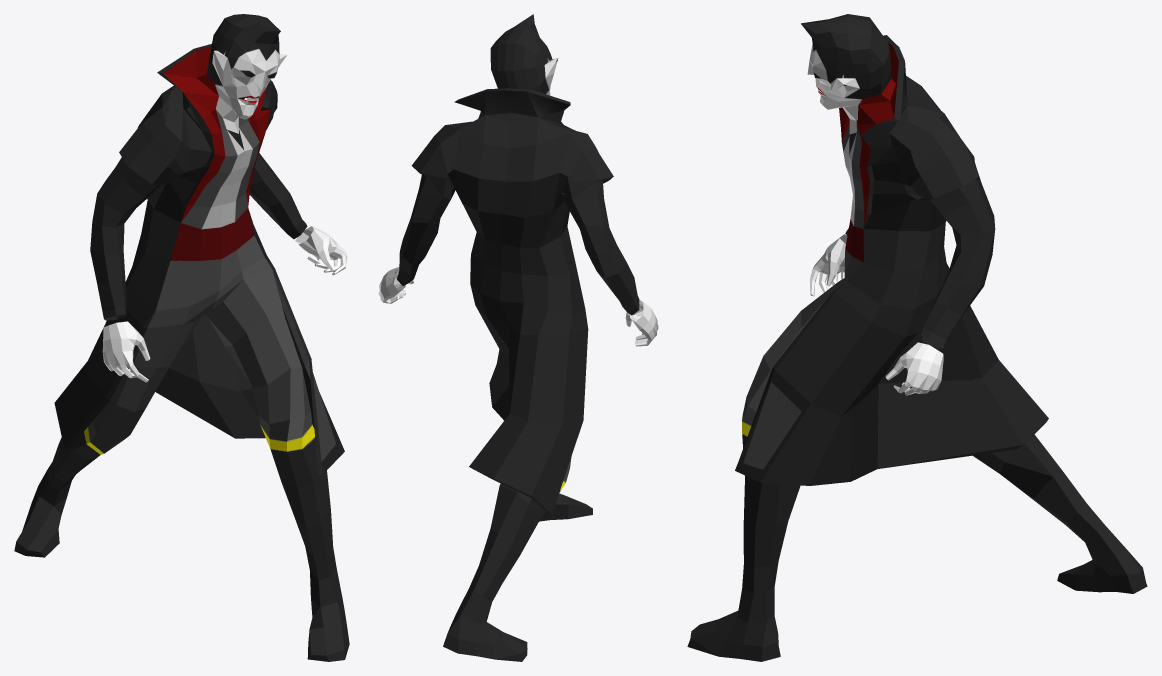
File: VampireIdle(46).obj
3 views of the same model, side by side, from view 1: azimuth 30°, elevation 25°; view 2: azimuth 150°, elevation 25°; view 3: azimuth 270°, elevation 25° (orthographic). The views are drawn at different scales.
Parts seen in each view (by area): view 1: Plane002; view 2: Plane002; view 3: Plane002.
Part boxes in pixels (x1,y1,x2,y2): Plane002: (14, 14, 349, 661); Plane002: (378, 14, 658, 661); Plane002: (687, 14, 1147, 661).
Size of the model in its own units: 144 by 299 by 202.
